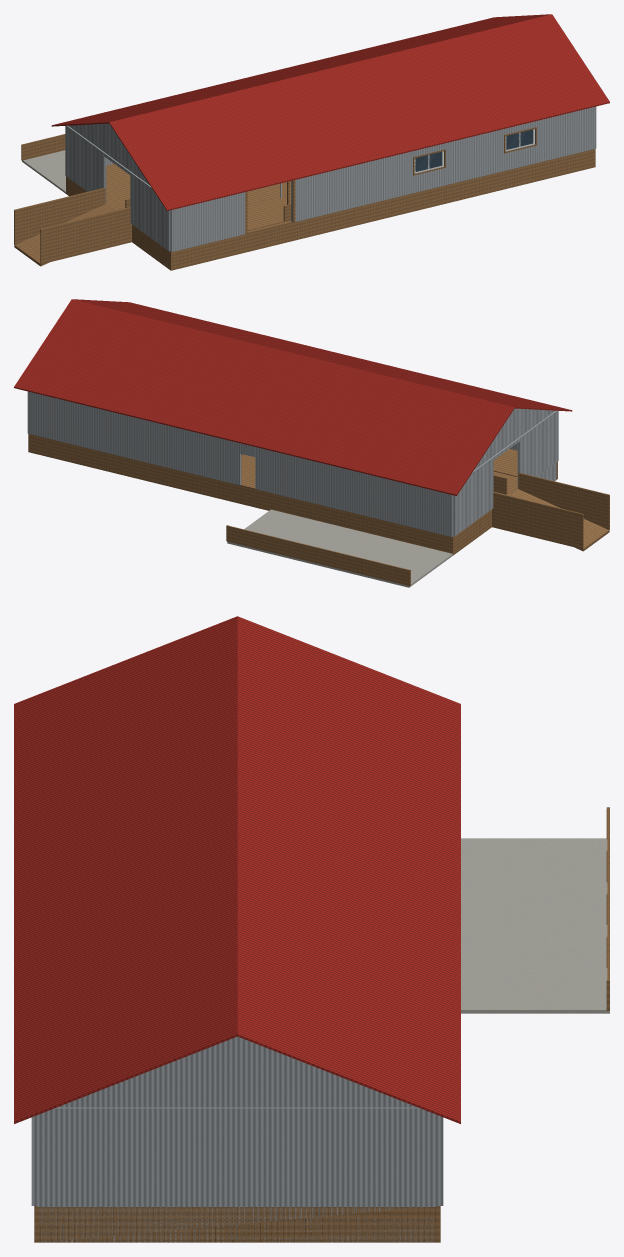
Rendered from woolshed.obj.
The picture shows the model from 3 angles, top to bottom: view 1: azimuth 30°, elevation 25°; view 2: azimuth 150°, elevation 25°; view 3: azimuth 270°, elevation 25°; orthographic projection. The views are drawn at different scales.
Visible parts, largest first — view 1: roof, walls, floor, ramp, yard, board, glass, trim; view 2: roof, walls, floor, yard, ramp, board; view 3: roof, walls, yard, floor, piles.
Boxes of the visible parts, x1,y1,x2,y2 form: roof: (51, 14, 609, 210); walls: (65, 106, 596, 251); floor: (66, 149, 595, 270); ramp: (14, 188, 131, 266); yard: (21, 134, 65, 193); board: (247, 194, 291, 230); glass: (414, 129, 534, 172); trim: (245, 127, 536, 234); roof: (14, 299, 572, 495); walls: (27, 391, 558, 536); floor: (28, 434, 557, 555); yard: (226, 509, 452, 587); ramp: (492, 473, 609, 551); board: (493, 449, 517, 477); roof: (14, 616, 460, 1123); walls: (31, 1036, 443, 1206); yard: (461, 807, 609, 1013); floor: (34, 1206, 440, 1242); piles: (39, 1207, 435, 1242).
Bounding box in the file's own units: 34.6 × 7.23 × 17.6.
Materials: 6 (6 with a texture image).
